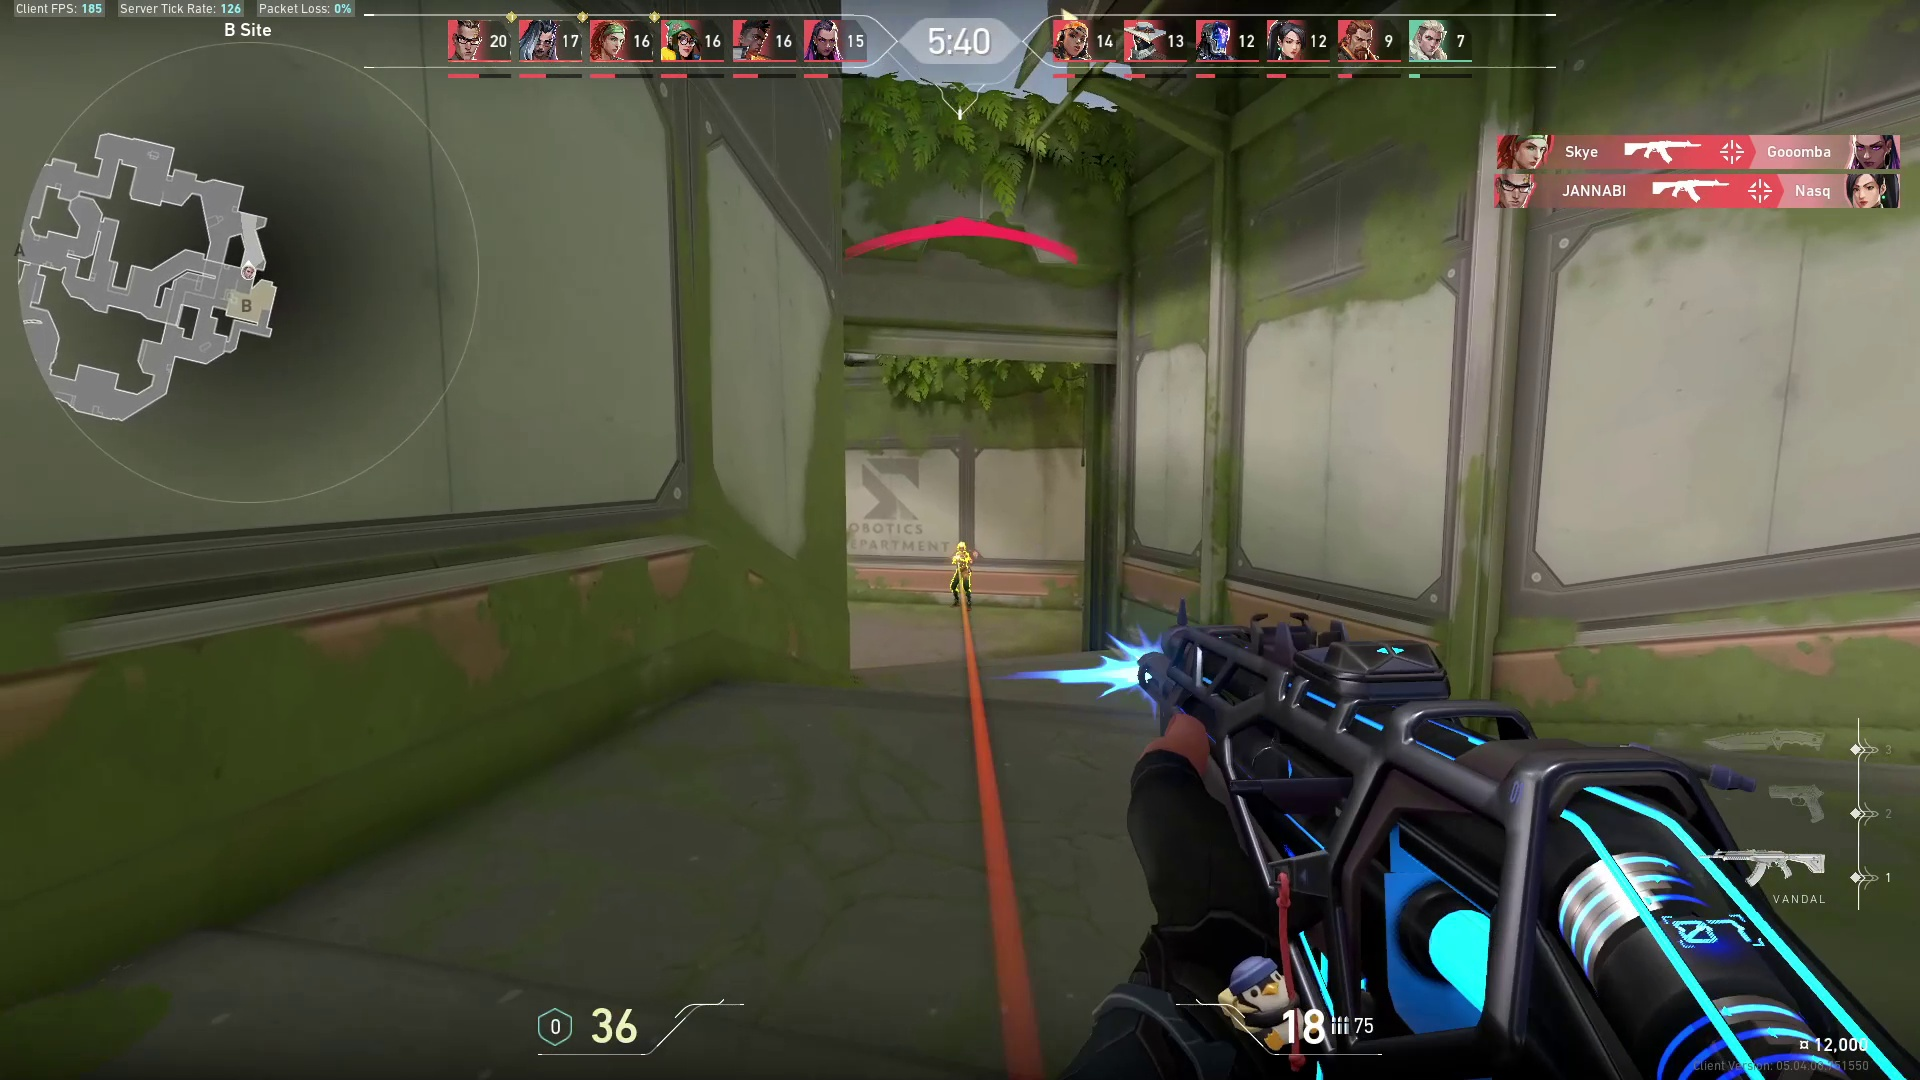enemy_body: (949, 554, 975, 614)
enemy_head: (954, 540, 968, 554)
